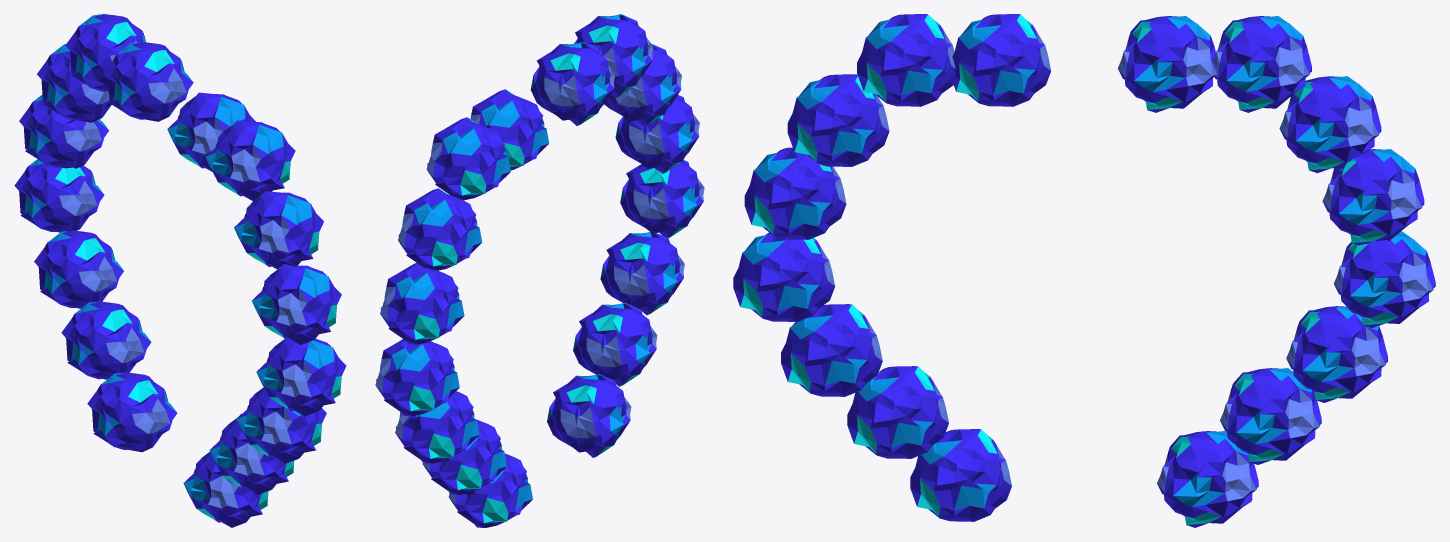
The model's file is Asteroid_Belt_1.fbx.
3 renders of one model, left to right at view 1: azimuth 30°, elevation 25°; view 2: azimuth 150°, elevation 25°; view 3: azimuth 270°, elevation 25°, orthographic. The views are drawn at different scales.
Parts seen in each view (by area): view 1: Icosphere.008, Icosphere.001, Icosphere.012, Icosphere.003, Icosphere.002, Icosphere.010, Icosphere.011, Icosphere.013, Icosphere.004, Icosphere.014, Icosphere.005, Icosphere.007 (+4 smaller); view 2: Icosphere.009, Icosphere.016, Icosphere.014, Icosphere.015, Icosphere.007, Icosphere.006, Icosphere.005, Icosphere.004, Icosphere.013, Icosphere.003, Icosphere.012, Icosphere.008 (+4 smaller); view 3: Icosphere.010, Icosphere.009, Icosphere.015, Icosphere.007, Icosphere.008, Icosphere.014, Icosphere.011, Icosphere.016, Icosphere.002, Icosphere.006, Icosphere.001, Icosphere.003 (+4 smaller).
Part boxes in pixels (x1,y1,x2,y2): Icosphere.008: (103,42,193,121); Icosphere.001: (87,372,177,452); Icosphere.012: (251,264,341,344); Icosphere.003: (34,230,123,308); Icosphere.002: (61,301,151,379); Icosphere.010: (205,120,295,201); Icosphere.011: (234,191,323,269); Icosphere.013: (256,338,346,416); Icosphere.004: (14,159,104,232); Icosphere.014: (237,387,326,463); Icosphere.005: (19,95,108,168); Icosphere.007: (65,14,145,91); Icosphere.009: (530,42,614,125); Icosphere.016: (547,374,631,457); Icosphere.014: (600,232,684,315); Icosphere.015: (573,302,657,386); Icosphere.007: (426,117,510,200); Icosphere.006: (398,188,482,270); Icosphere.005: (380,263,464,344); Icosphere.004: (375,339,459,416); Icosphere.013: (620,160,704,237); Icosphere.003: (395,391,479,463); Icosphere.012: (615,95,699,173); Icosphere.008: (470,89,549,170); Icosphere.010: (857,14,955,106); Icosphere.009: (952,14,1050,106); Icosphere.015: (847,366,948,458); Icosphere.007: (1213,16,1311,112); Icosphere.008: (1117,16,1217,112); Icosphere.014: (781,304,882,396); Icosphere.011: (787,74,889,166); Icosphere.016: (910,429,1011,521); Icosphere.002: (1220,368,1321,464); Icosphere.006: (1279,76,1381,173); Icosphere.001: (1157,431,1258,527); Icosphere.003: (1286,306,1387,402).
Size of the model in its own units: 166 by 893 by 1126.
